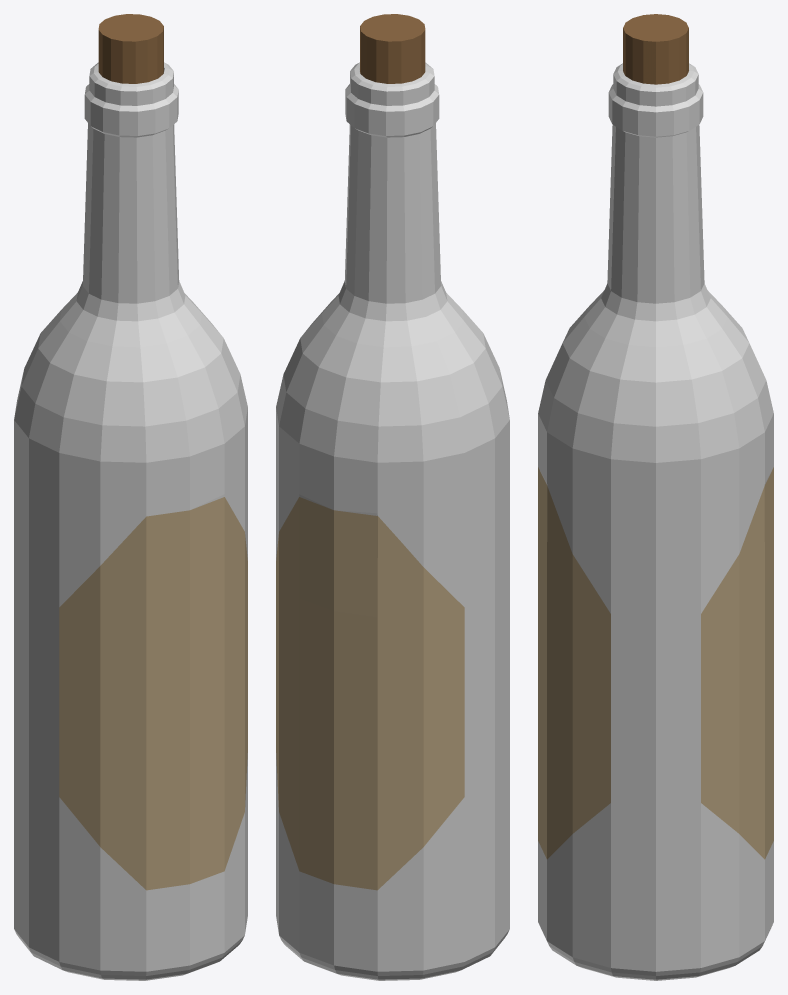
Rendered from Bottle_6_Empty.fbx.
3 views of the same model, side by side, from view 1: azimuth 30°, elevation 25°; view 2: azimuth 150°, elevation 25°; view 3: azimuth 270°, elevation 25° (orthographic).
Visible parts, largest first — view 1: Bottle6_Empty, Cork.005; view 2: Bottle6_Empty, Cork.005; view 3: Bottle6_Empty, Cork.005.
Part boxes in pixels (x1,y1,x2,y2): Bottle6_Empty: (14, 62, 247, 980); Cork.005: (98, 14, 163, 83); Bottle6_Empty: (276, 62, 509, 980); Cork.005: (360, 14, 425, 83); Bottle6_Empty: (538, 63, 773, 980); Cork.005: (623, 14, 688, 84).
Bounding box in the file's own units: 27.56 × 117 × 27.56.
